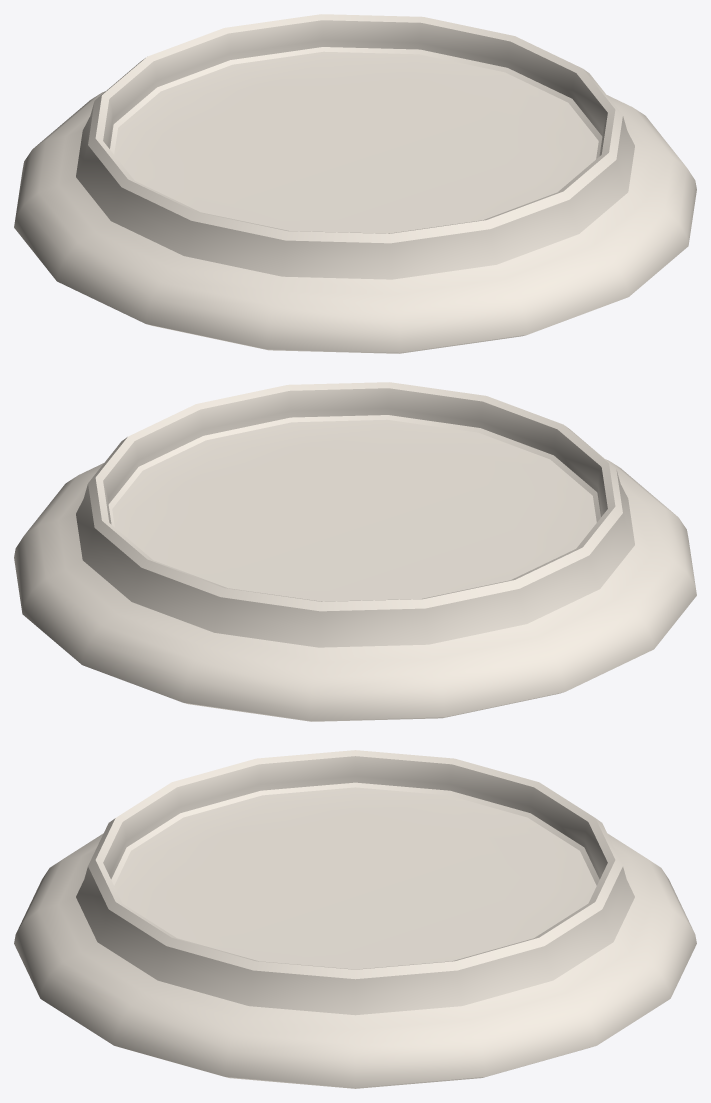
File: normal_Platform.fbx
3 renders of one model, top to bottom at view 1: azimuth 30°, elevation 25°; view 2: azimuth 150°, elevation 25°; view 3: azimuth 270°, elevation 25°, orthographic.
Visible parts, largest first — view 1: Normal; view 2: Normal; view 3: Normal.
Boxes of the visible parts, x1,y1,x2,y2 form: Normal: [14, 14, 696, 353]; Normal: [14, 382, 696, 721]; Normal: [14, 750, 696, 1088].
Size of the model in its own units: 227 by 33.44 by 227.
